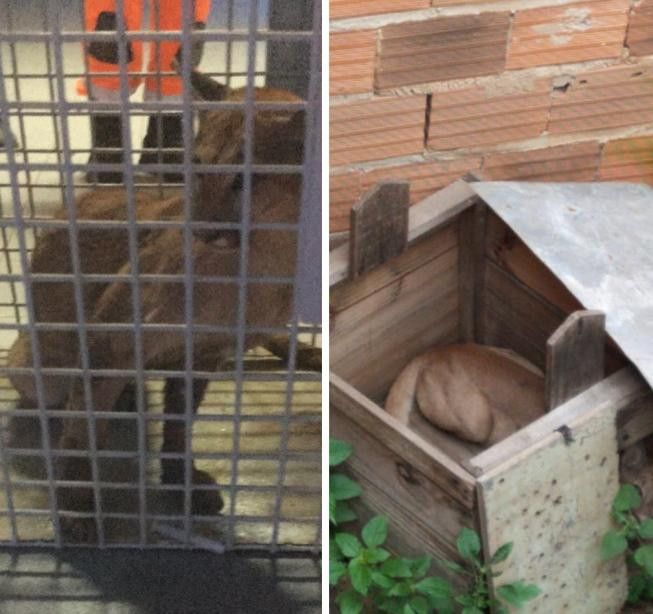OncaParda: (21, 73, 310, 523), (376, 341, 556, 451)
